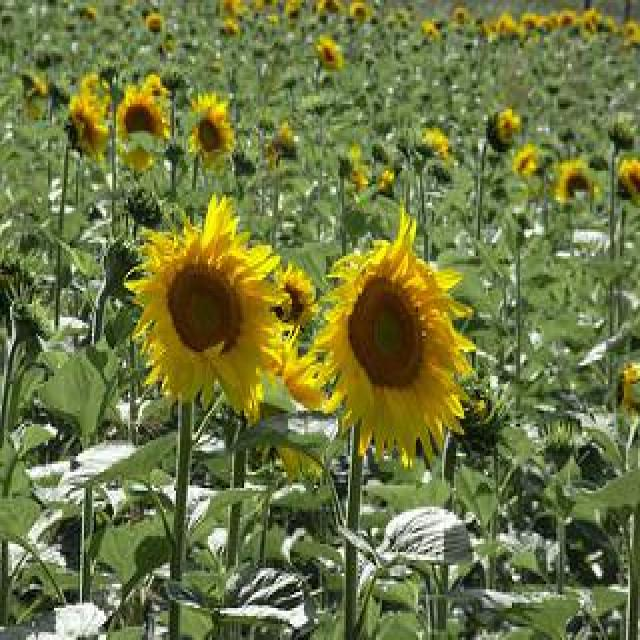sunflower: (316, 207, 478, 471), (124, 195, 293, 415), (257, 321, 333, 475), (111, 85, 169, 171), (188, 93, 235, 165), (271, 262, 315, 329), (66, 93, 108, 158), (556, 158, 596, 203), (489, 108, 520, 147), (614, 157, 640, 203), (341, 144, 368, 186), (318, 36, 342, 69), (420, 129, 446, 154), (514, 144, 536, 173)
